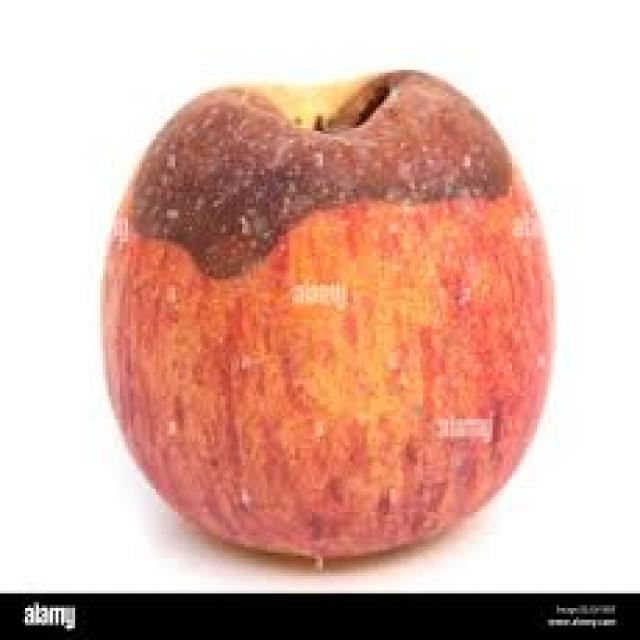Rotten: (98, 55, 560, 562)
